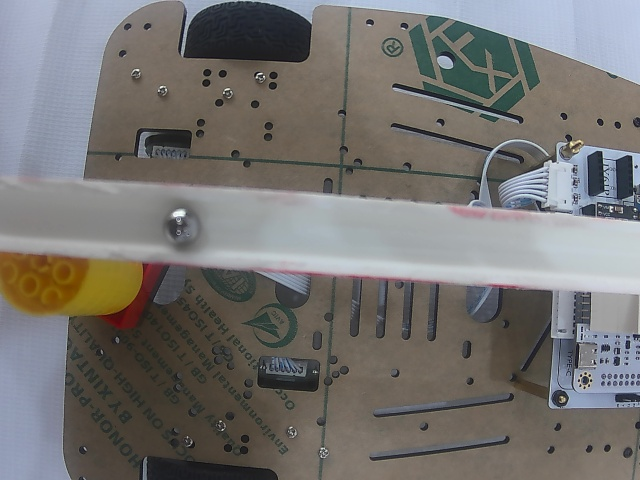steelball: (163, 206, 199, 246)
